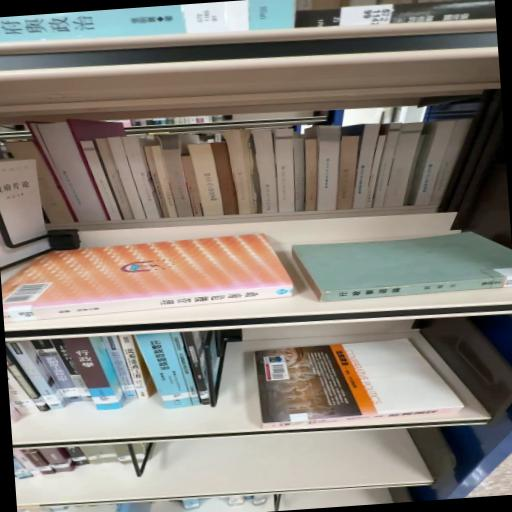flat: (2, 235, 294, 324), (255, 340, 464, 429), (293, 234, 512, 303)
